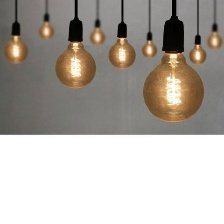light_bulb: (138, 45, 207, 126), (52, 33, 98, 90), (0, 23, 30, 66), (105, 34, 139, 69), (185, 35, 209, 65), (139, 35, 161, 60), (37, 14, 57, 41), (89, 20, 108, 45), (205, 24, 223, 50)
